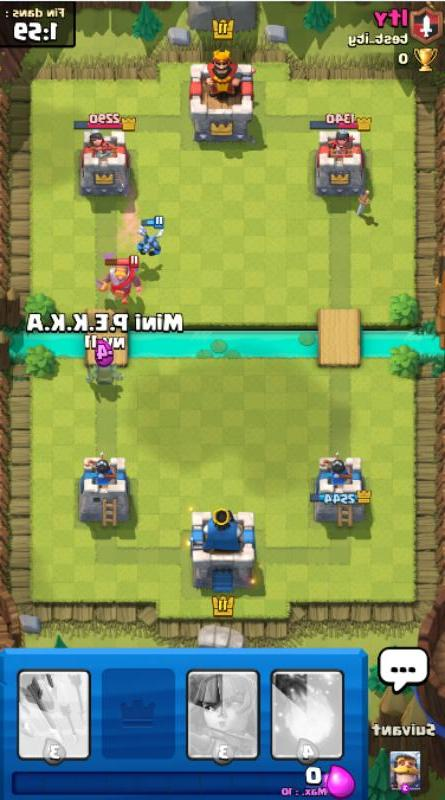chevalier: (94, 255, 143, 305)
gargouille: (137, 215, 165, 258)
mini_PEKKA: (84, 360, 124, 386)
